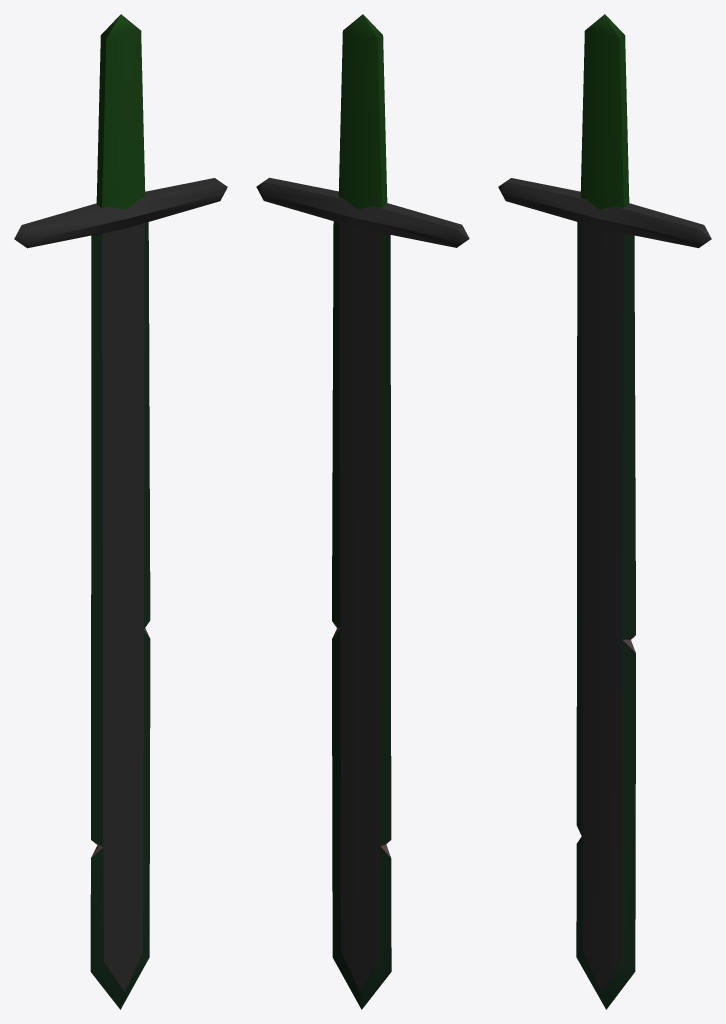
File: PT_Sword_01_a.glb
3 views of the same model, side by side, from view 1: azimuth 30°, elevation 25°; view 2: azimuth 150°, elevation 25°; view 3: azimuth 330°, elevation 25° (orthographic).
Visible parts, largest first — view 1: PT_Sword_01_a; view 2: PT_Sword_01_a; view 3: PT_Sword_01_a.
Boxes of the visible parts, <box> form: PT_Sword_01_a: <box>14,14,227,1009</box>; PT_Sword_01_a: <box>256,14,469,1009</box>; PT_Sword_01_a: <box>498,14,711,1009</box>.
Size of the model in its own units: 0.1808 by 0.8053 by 0.022.
Materials: 1 (1 with a texture image).
